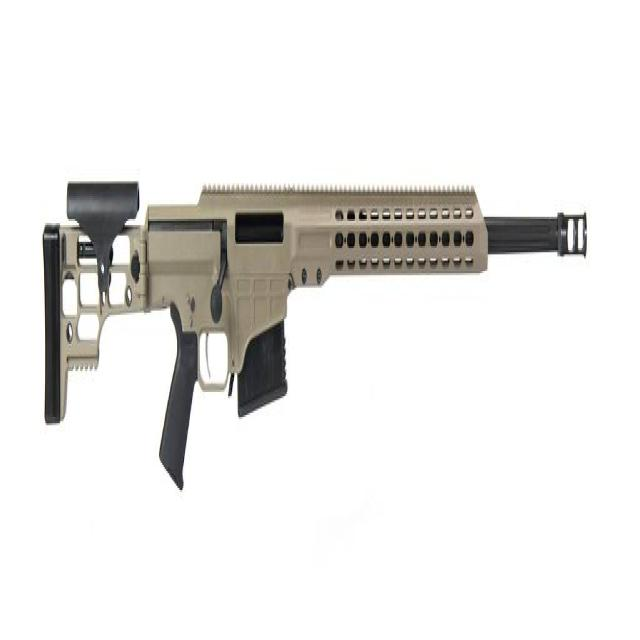Rifle: (45, 179, 586, 488)
